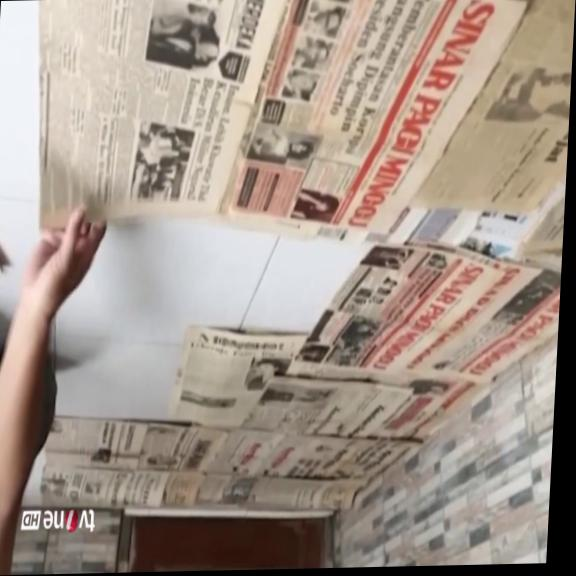Kertas: (220, 0, 528, 246), (25, 0, 295, 232), (300, 234, 559, 389), (166, 322, 309, 429)
